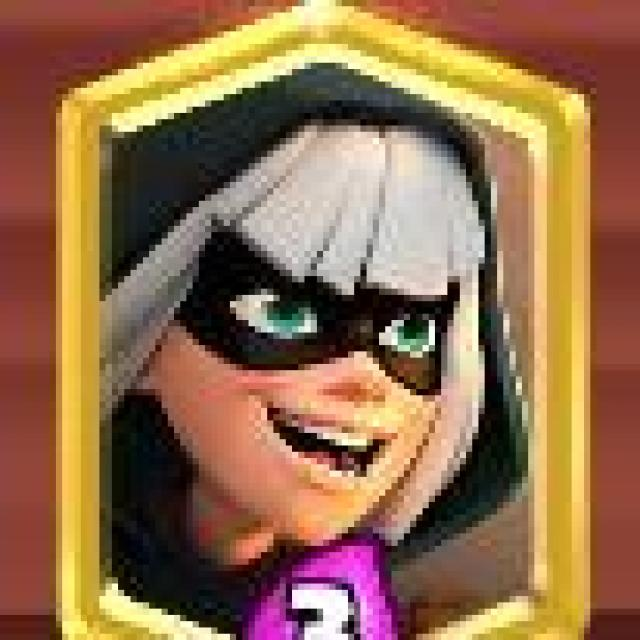Bandit: (56, 1, 594, 640)
